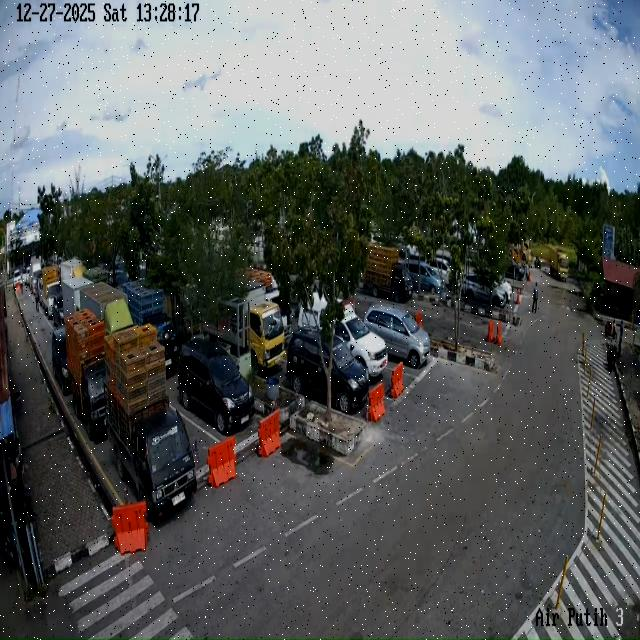Golongan IVA: (298, 292, 388, 378), (177, 338, 255, 434), (286, 328, 369, 413), (364, 305, 430, 369), (462, 274, 507, 308), (51, 326, 71, 394), (408, 262, 443, 293)
Golongan IVB: (104, 389, 197, 522), (70, 312, 106, 442), (362, 243, 413, 303), (39, 266, 60, 318)
Golongan VB: (203, 281, 285, 370), (550, 248, 569, 282)
